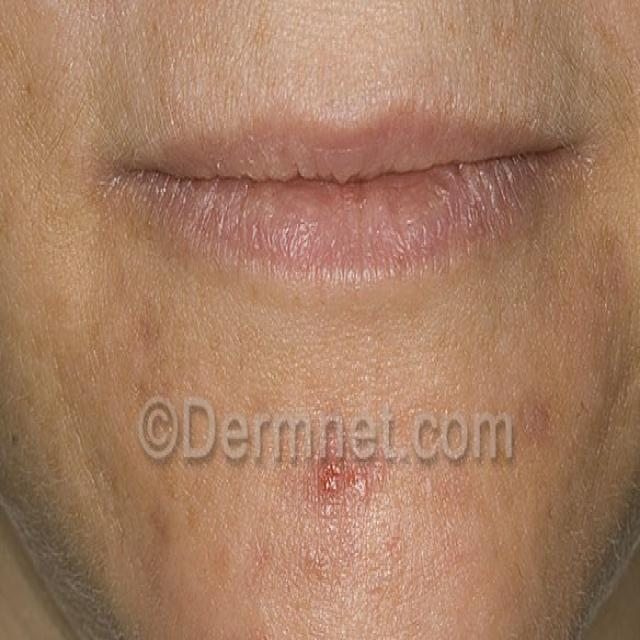Acne: (132, 297, 180, 640), (293, 435, 396, 514)
